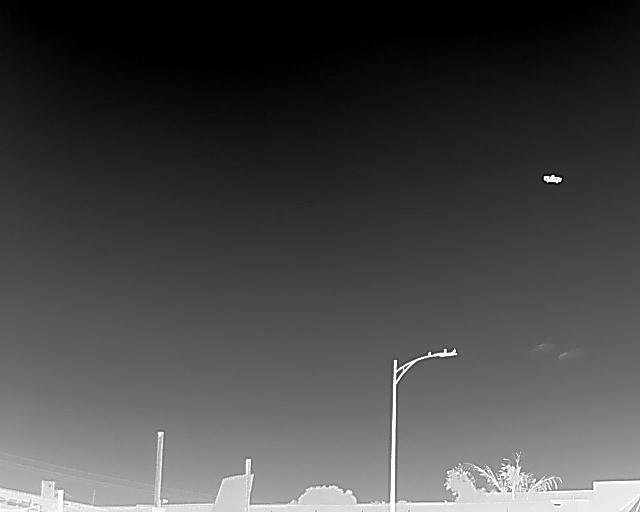fpv-drone: (542, 174, 563, 184)
